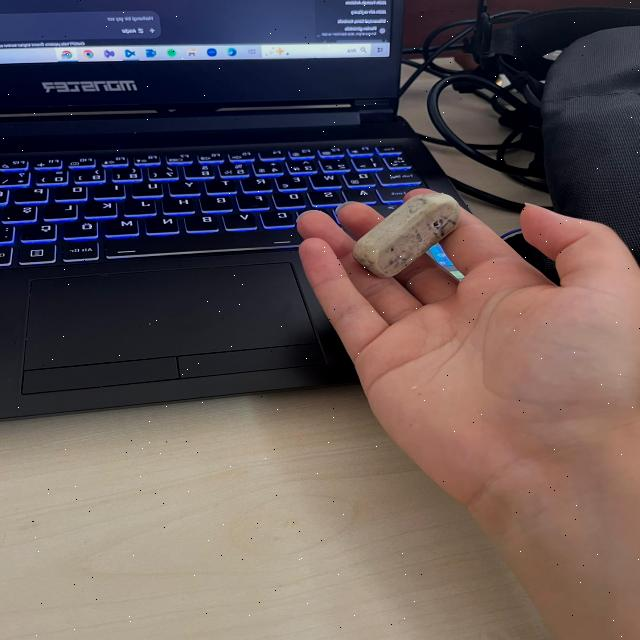eraser: (345, 180, 466, 285)
